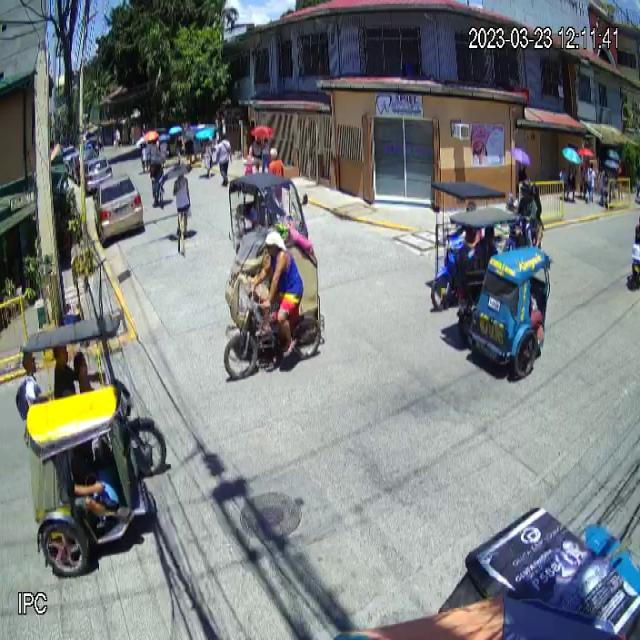Tricycle: (20, 312, 169, 579), (448, 206, 554, 382)
